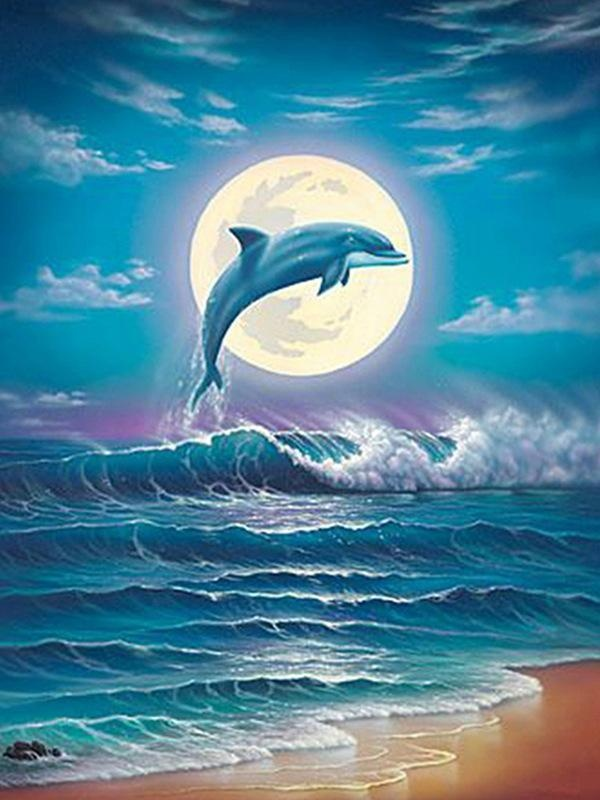fish: (182, 222, 411, 407)
